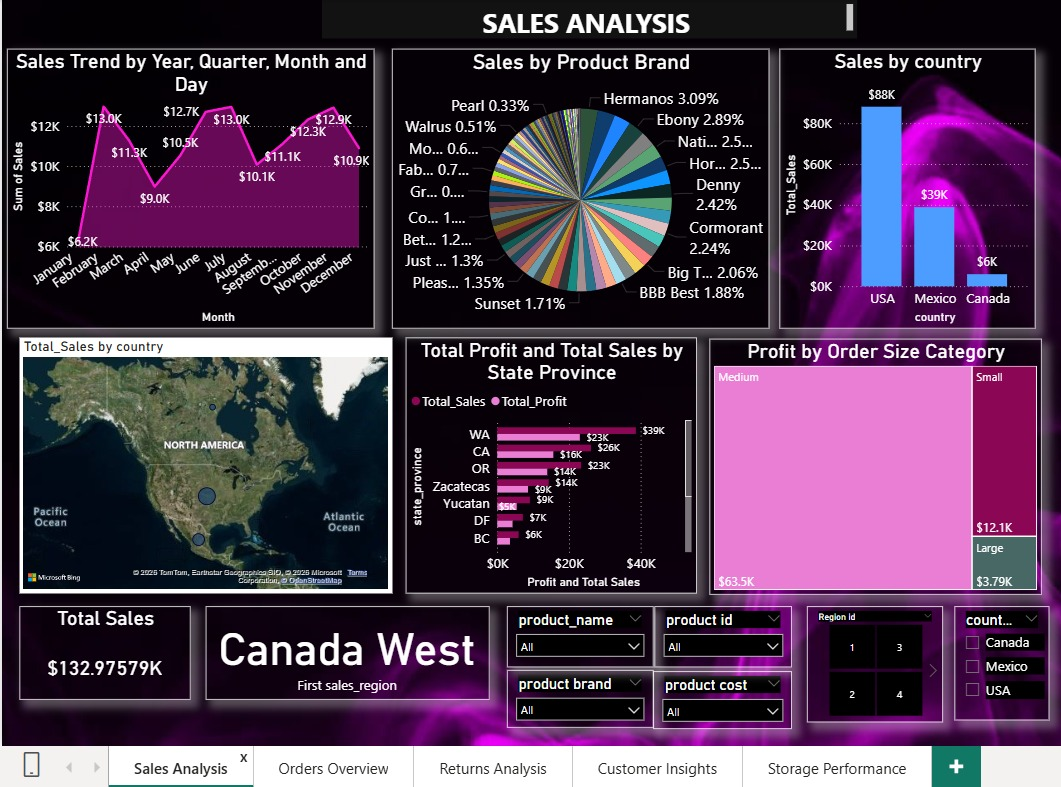

What the dashboard file says about the page in this screenshot:
{"tool":"powerbi","page":{"name":"Sales Analysis","canvas":[1280,900],"ordinal":0},"visuals":[{"type":"areaChart","title":" Sales Trend by Year, Quarter, Month and Day","fields":{"Category":["transactions.transaction_date.Variation.Date Hierarchy.Year","transactions.transaction_date.Variation.Date Hierarchy.Quarter","transactions.transaction_date.Variation.Date Hierarchy.Month","transactions.transaction_date.Variation.Date Hierarchy.Day"],"Y":["Sum(transactions.Sales)"]},"box":[6,58.8,443.4,337.8],"z":0},{"type":"pieChart","title":"Sales by Product Brand","fields":{"Y":["Sum(transactions.Sales)"],"Category":["products.product_brand"]},"box":[470.5,58.8,455.4,337.8],"z":1000},{"type":"cardVisual","title":"Total Sales","fields":{"Data":["transactions.Total_Sales"]},"box":[21.1,731.4,206.6,113.1],"z":2000},{"type":"clusteredBarChart","title":"  Total Profit and Total Sales by State Province","fields":{"Category":["transactions.state_province"],"Y":["transactions.Total_Sales","transactions.Total_Profit"]},"box":[487.1,407.2,351.4,309.2],"z":3000},{"type":"treemap","title":" Profit by Order Size Category","fields":{"Group":["transactions.Order_Size_Category"],"Values":["Sum(transactions.Profit)"]},"box":[853.6,408.7,401.1,309.2],"z":4000},{"type":"map","fields":{"Category":["transactions.country"],"Size":["transactions.Total_Sales"]},"box":[21.1,407.2,449.4,309.2],"z":5000},{"type":"columnChart","title":"Sales by country","fields":{"Category":["transactions.country"],"Y":["transactions.Total_Sales"]},"box":[938,58.8,309.2,337.8],"z":6000},{"type":"slicer","fields":{"Values":["products.product_brand"]},"box":[609.3,808.3,176.4,69.4],"z":7000},{"type":"slicer","fields":{"Values":["products.product_name"]},"box":[609.3,731.4,176.4,73.9],"z":8000},{"type":"slicer","fields":{"Values":["products.product_cost"]},"box":[785.7,809.8,167.4,69.4],"z":9000},{"type":"slicer","fields":{"Values":["products.product_id"]},"box":[787.2,731.4,165.9,73.9],"z":10000},{"type":"slicer","fields":{"Values":["transactions.country"]},"box":[1149.1,731.4,114.6,137.2],"z":11000},{"type":"card","fields":{"Values":["Min(regions.sales_region)"]},"box":[245.8,731.4,342.3,113.1],"z":12000},{"type":"slicer","fields":{"Values":["stores.region_id"]},"box":[971.2,731.4,164.4,140.2],"z":13000},{"type":"textbox","box":[386.1,0,645.4,46.7],"z":14000}]}

Visuals, with their boxes on the page's 1280x900 design canvas (x1, y1, x2, y2). These are canvas units, not pixel positions in the 1061x787 screenshot, which may show the page scaled, cropped or inside an application window:
" Sales Trend by Year, Quarter, Month and Day" areaChart: (6,59,449,397)
"Sales by Product Brand" pieChart: (470,59,926,397)
"Total Sales" cardVisual: (21,731,228,844)
"  Total Profit and Total Sales by State Province" clusteredBarChart: (487,407,838,716)
" Profit by Order Size Category" treemap: (854,409,1255,718)
map - transactions.country x transactions.Total_Sales: (21,407,470,716)
"Sales by country" columnChart: (938,59,1247,397)
slicer - products.product_brand: (609,808,786,878)
slicer - products.product_name: (609,731,786,805)
slicer - products.product_cost: (786,810,953,879)
slicer - products.product_id: (787,731,953,805)
slicer - transactions.country: (1149,731,1264,869)
card - Min(regions.sales_region): (246,731,588,844)
slicer - stores.region_id: (971,731,1136,872)
textbox: (386,0,1032,47)
